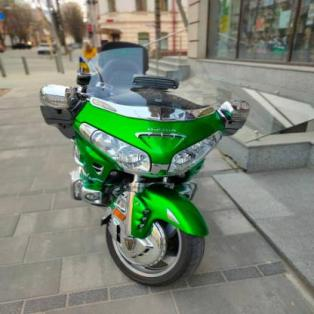Motocicleta: (36, 51, 235, 283)
